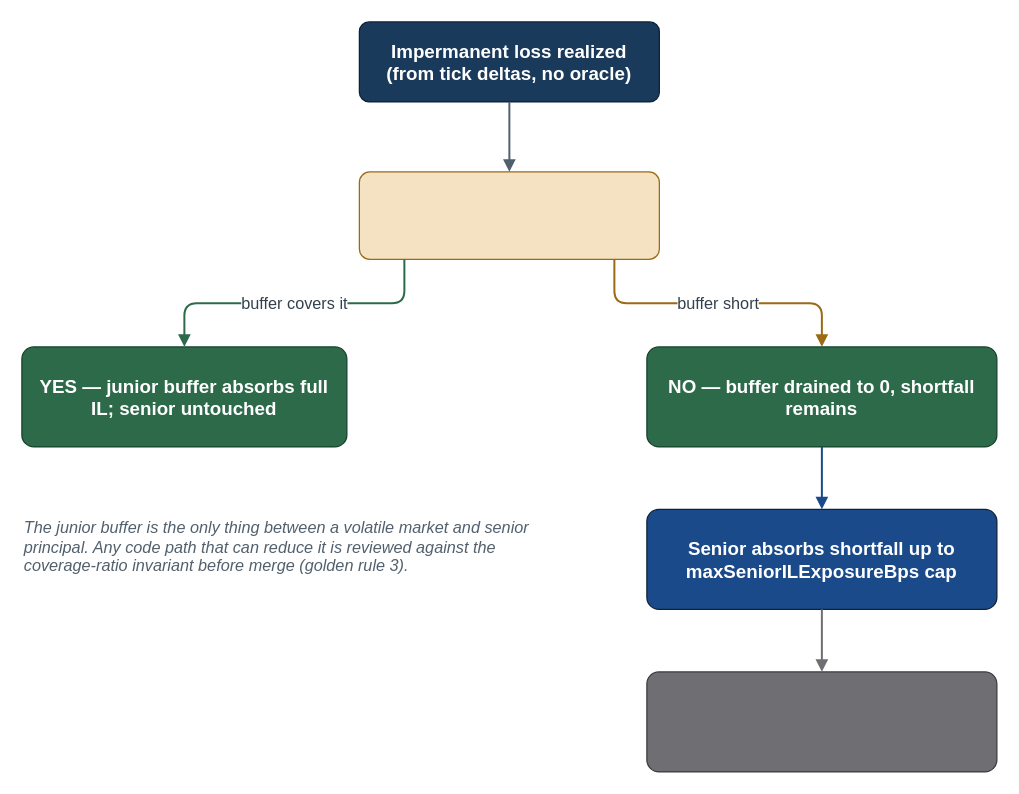
The diagram is 1019 pixels wide and 794 high, and some of its shapes have lost their labels. Here are the shapes that lost their labels. From the top down, the centre of each, then its label:
At [508,215]: "Junior buffer ≥ IL ?".
At [821,721]: "Beyond cap: realized loss (documented worst case)".
